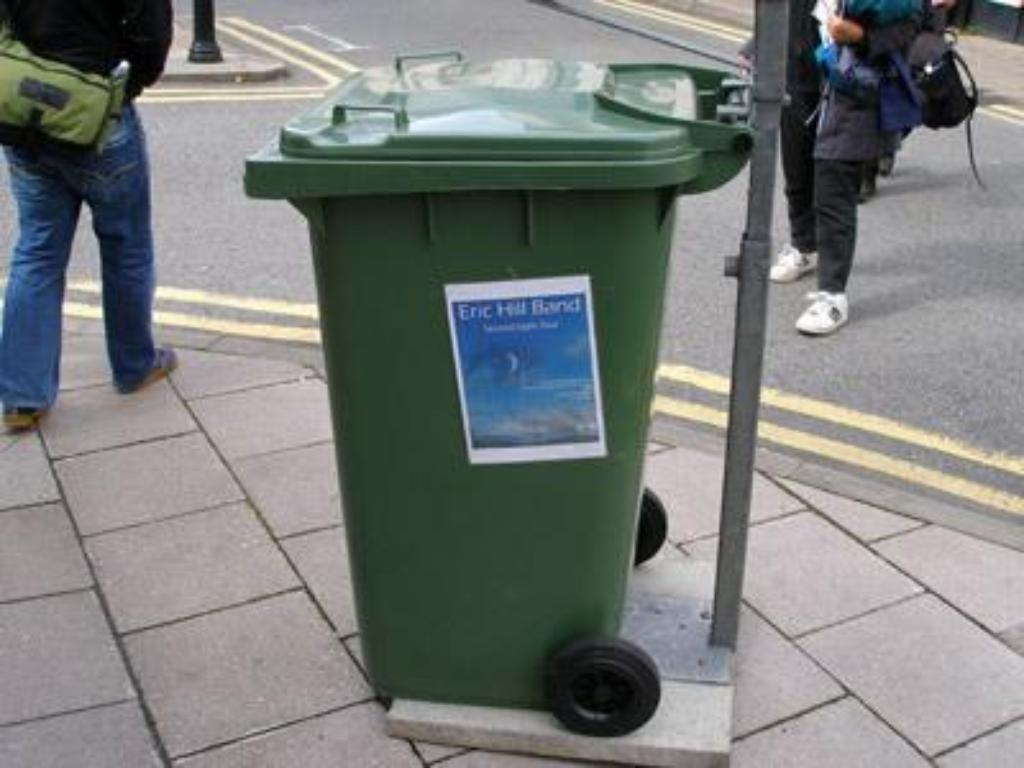dustbin: (293, 31, 772, 740)
